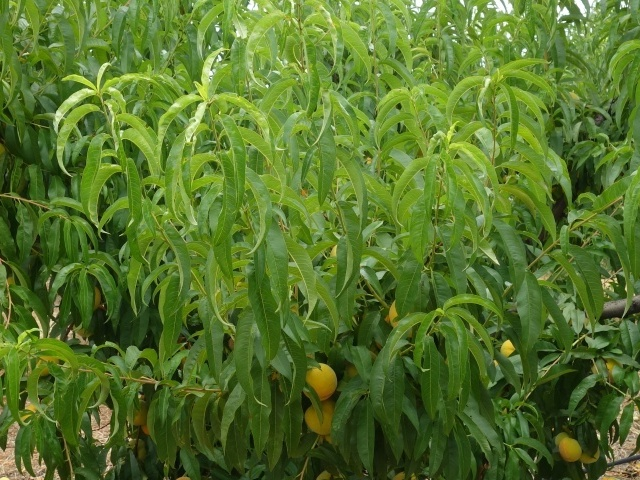peach: (297, 359, 343, 406), (301, 399, 342, 439), (382, 295, 417, 336), (594, 353, 627, 386), (493, 333, 520, 366), (125, 398, 153, 429), (554, 434, 583, 463), (575, 442, 604, 469)
